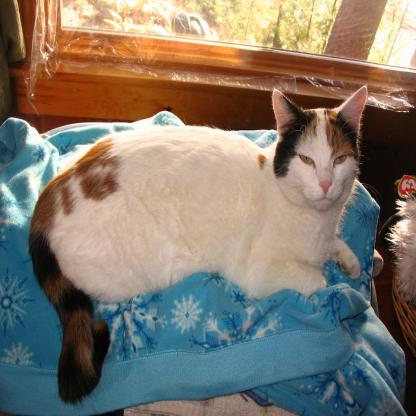cat: (5, 74, 368, 388)
